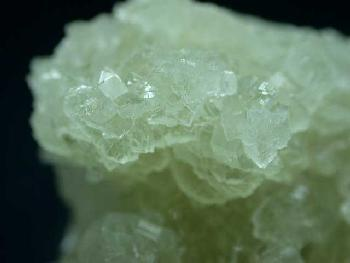prehnite: (31, 47, 333, 204)
